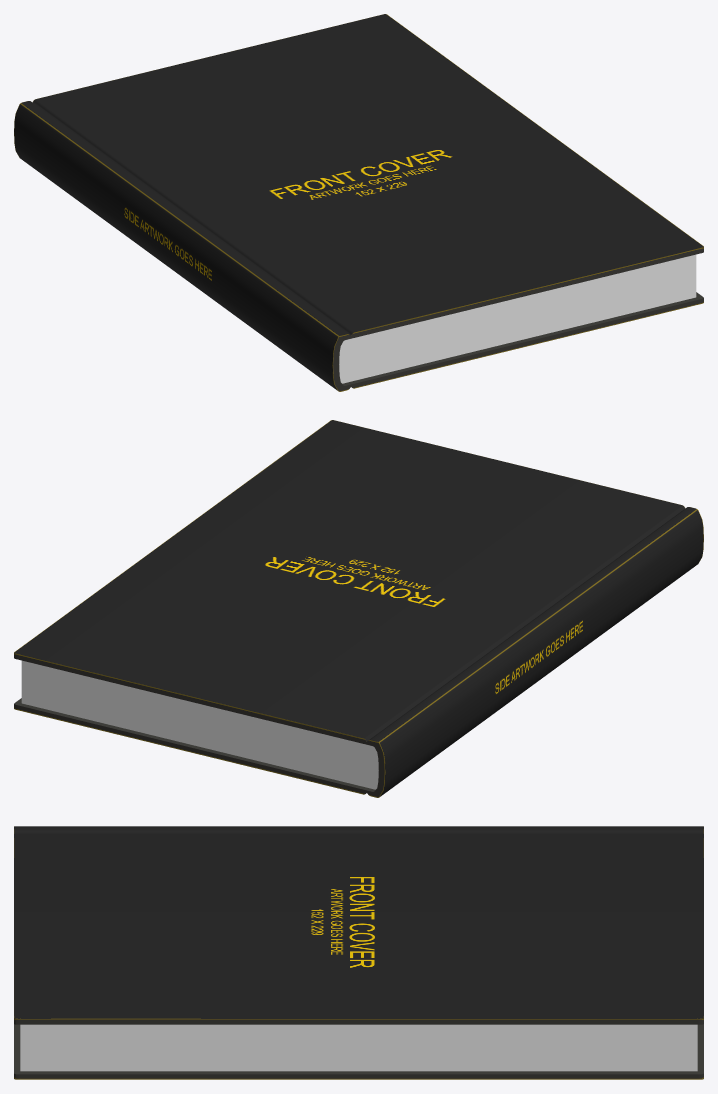
The model's file is BookXL.glb.
The picture shows the model from 3 angles, top to bottom: view 1: azimuth 30°, elevation 25°; view 2: azimuth 150°, elevation 25°; view 3: azimuth 270°, elevation 25°; orthographic projection. The views are drawn at different scales.
Parts seen in each view (by area): view 1: Book_152x229; view 2: Book_152x229; view 3: Book_152x229.
Boxes of the visible parts, <box> form: Book_152x229: <box>14,14,703,391</box>; Book_152x229: <box>14,420,703,797</box>; Book_152x229: <box>14,826,703,1079</box>.
Bounding box in the file's own units: 0.1572 × 0.0226 × 0.2333.
2 materials, 1 textured.
